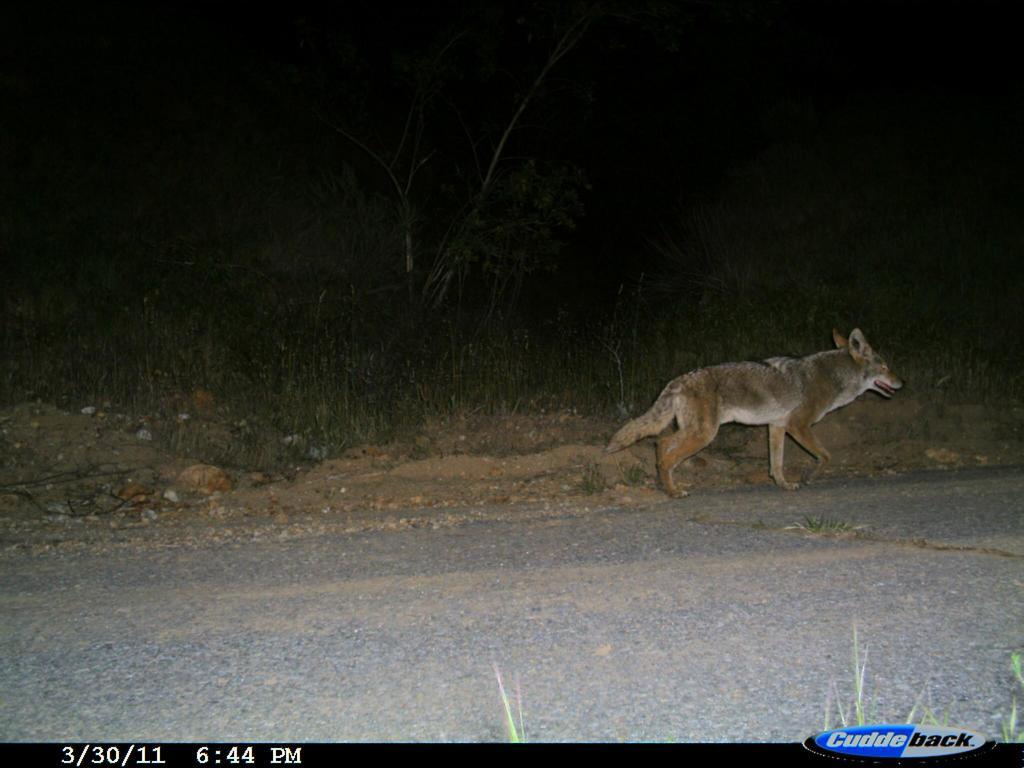coyote: (610, 295, 917, 515)
